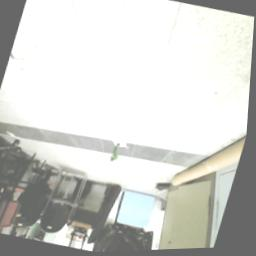herb: (110, 141, 126, 165)
